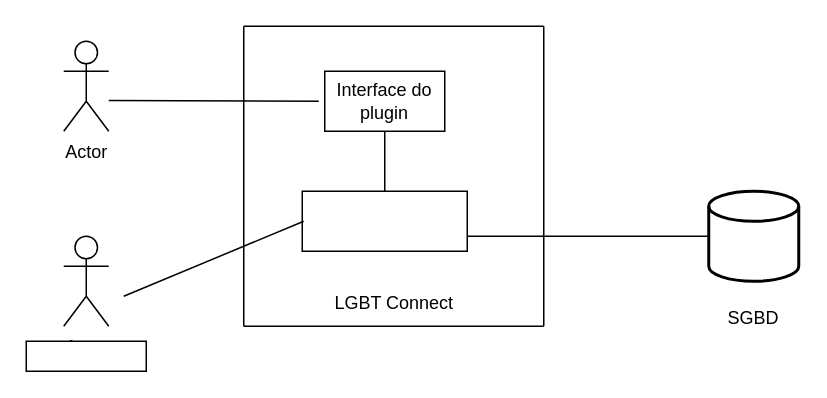
Image size: 827x398. Some labels were removed from this diagram. The shapes that lost their labels are listed below. From the top down, each one's centre as x and y in pixels, then its label:
At point 384,220: "Gerenciador de áreas".
At point 85,355: "Adm".
